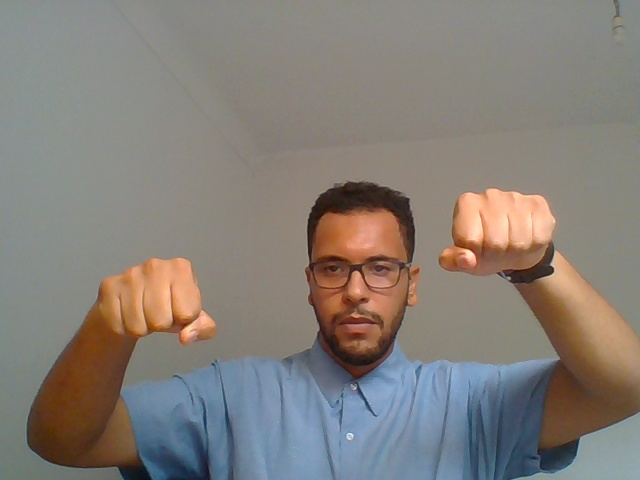yes: (50, 219, 217, 384), (427, 158, 587, 319)
